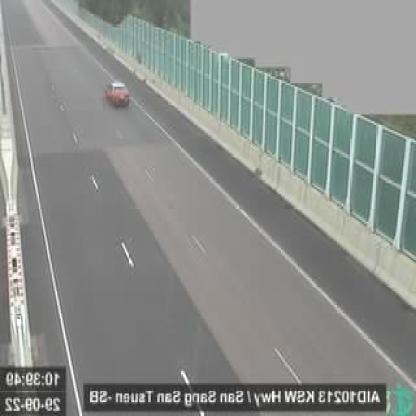Car: (105, 78, 130, 107)
